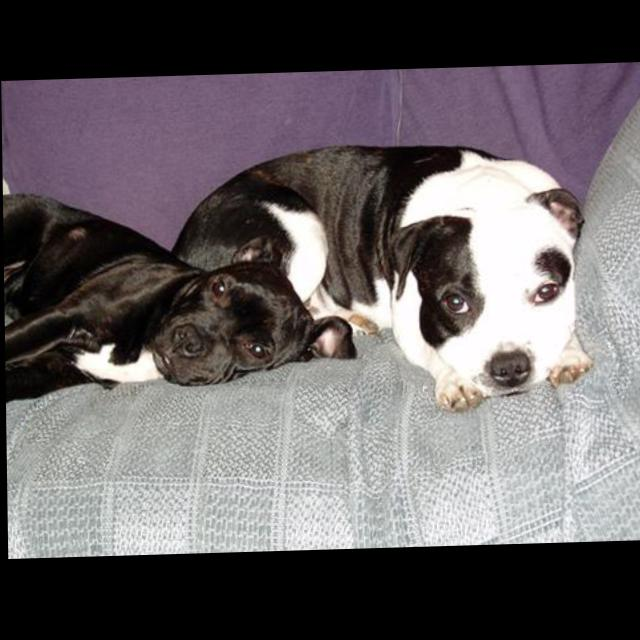staffford: (169, 141, 595, 423), (4, 184, 359, 412)
